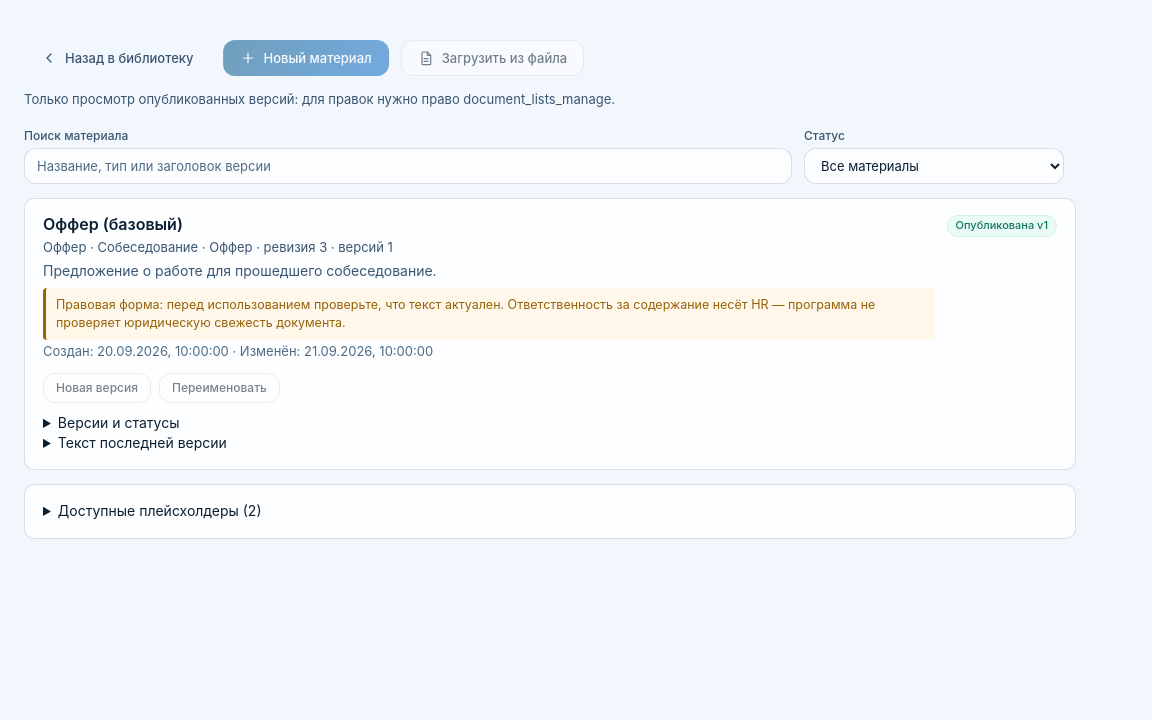
Test: Шаблоны документов › hides management without the grant and lists only published versions
Check: the heading "Оффер (базовый)" is shown, box [43, 214, 183, 234]
Check: the text "Только просмотр опубликованных версий" is shown, box [24, 91, 615, 107]
Click the heading "Версии и статусы" at (119, 422), box [58, 414, 179, 431]
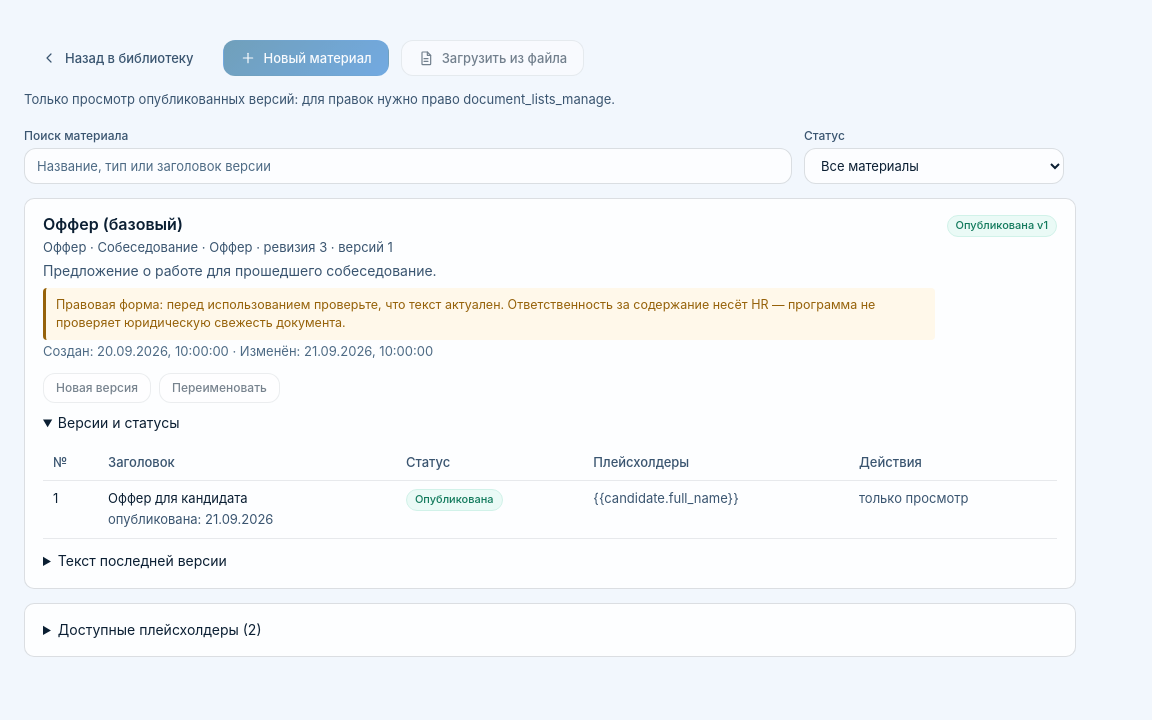
Check: the text "только просмотр" is shown, box [859, 490, 968, 506]
